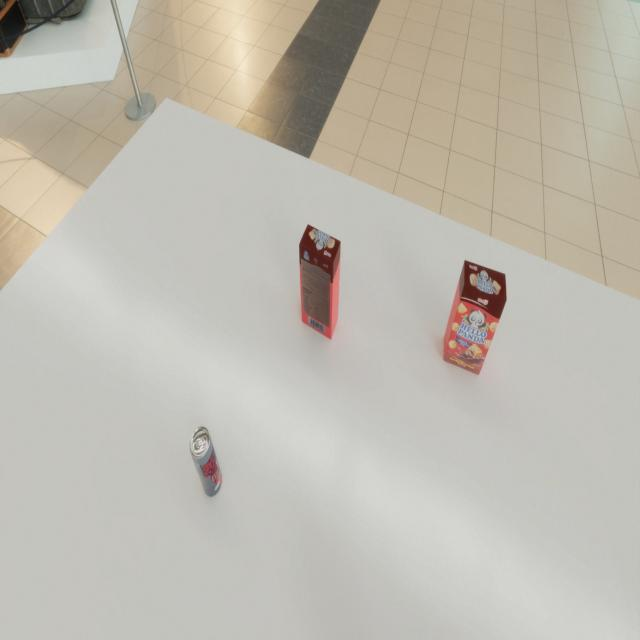HelloPanda: (443, 260, 507, 375), (299, 224, 341, 340)
Rita_zero_sugar: (189, 426, 222, 497)
